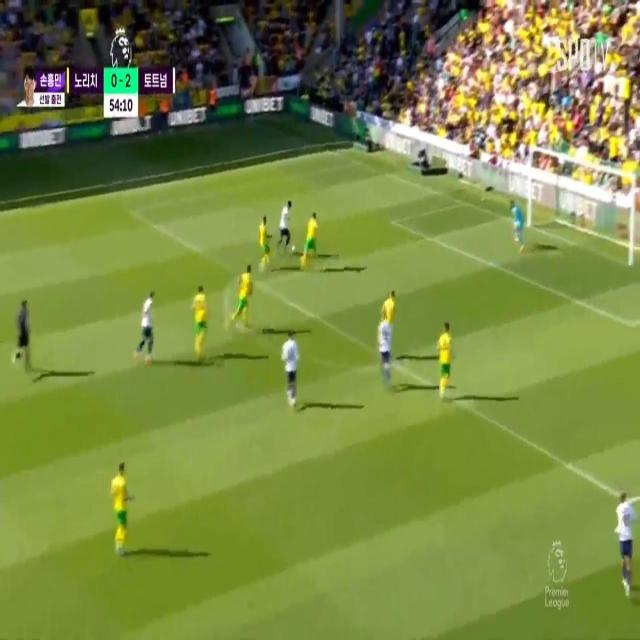ball: (289, 235, 299, 262)
player: (615, 482, 638, 592), (112, 461, 126, 556), (286, 320, 300, 411), (439, 316, 454, 398), (137, 290, 153, 358), (193, 288, 207, 356), (302, 213, 318, 270), (280, 196, 294, 255), (236, 263, 250, 320), (379, 309, 389, 375), (382, 286, 394, 329), (260, 213, 270, 260)
referee: (17, 292, 33, 375)
